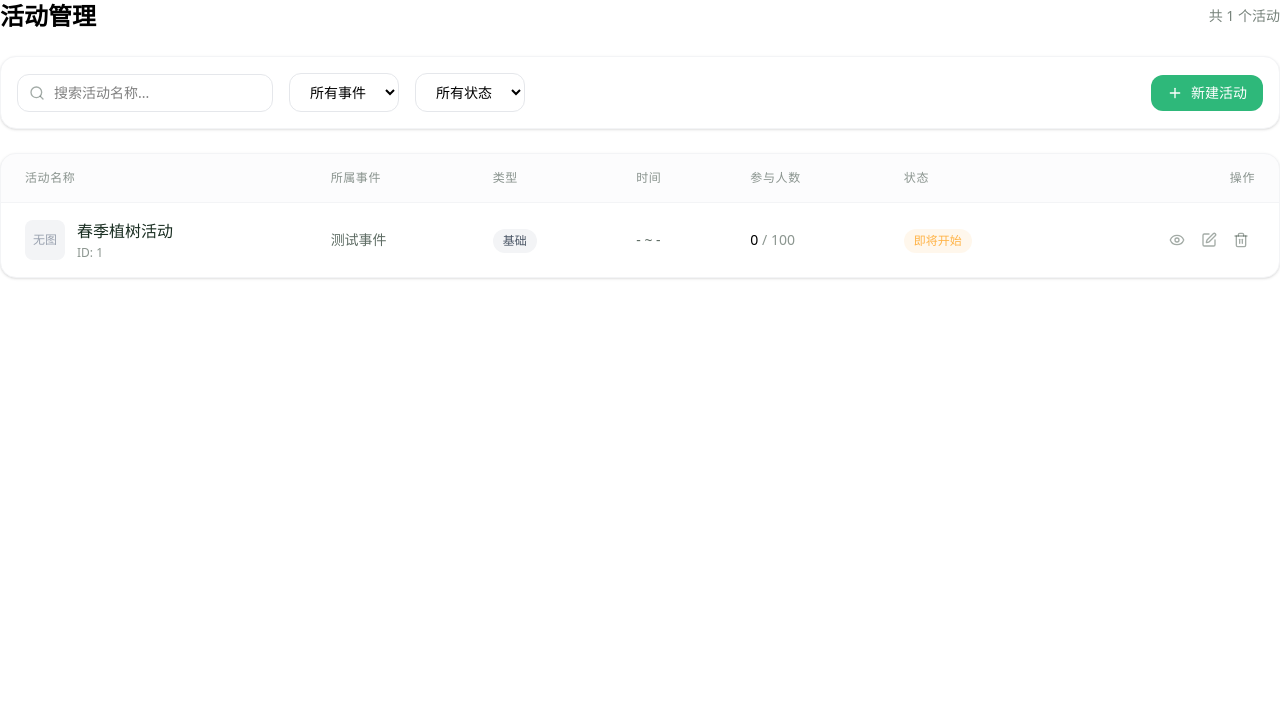
it: ActivityManagementPage 删除活动 › 删除含报名记录的活动失败时展示后端明确文案且模态不关闭（BUG-11）
Expected: the text "春季植树活动" is shown, x1=77 y1=219 x2=173 y2=243
What coordinates should you click on to do the following:
click the button titled "删除"
I would click on:
 (1241, 240)
Its box is x1=1227 y1=226 x2=1255 y2=254.
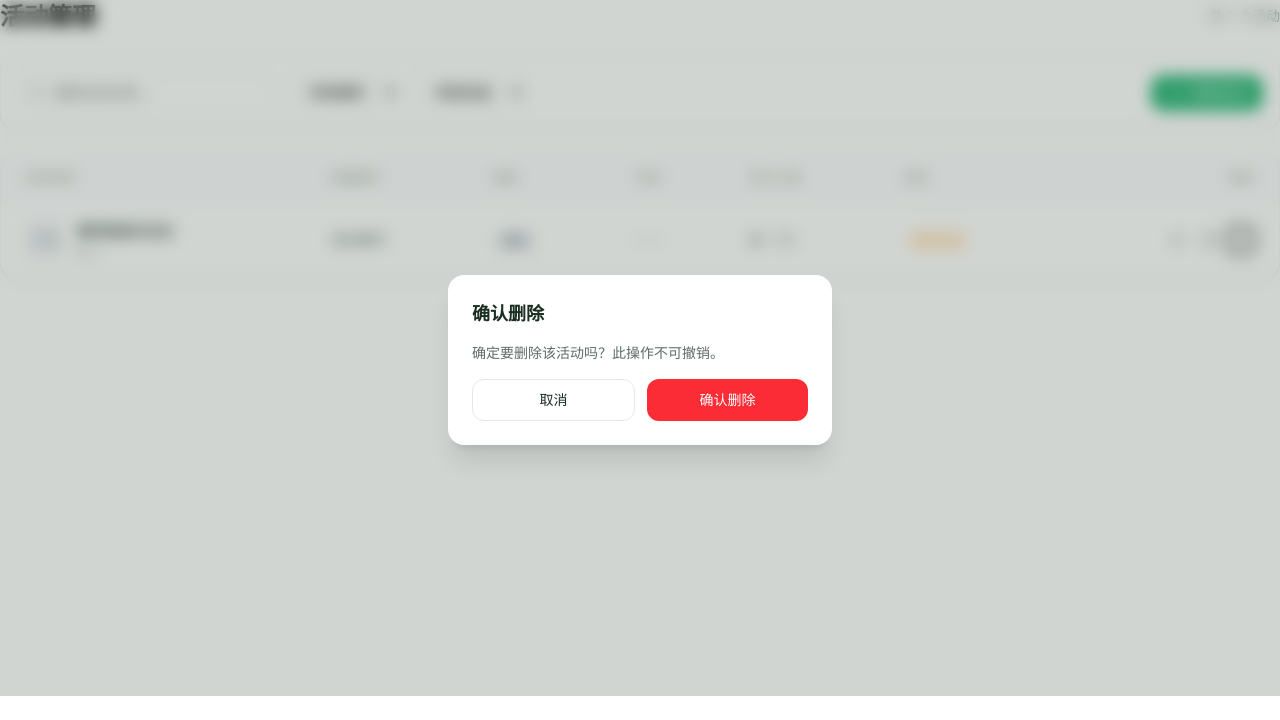
What coordinates should you click on to do the following:
click the button "确认删除"
I would click on:
 (728, 400)
Its box is x1=647 y1=379 x2=808 y2=421.
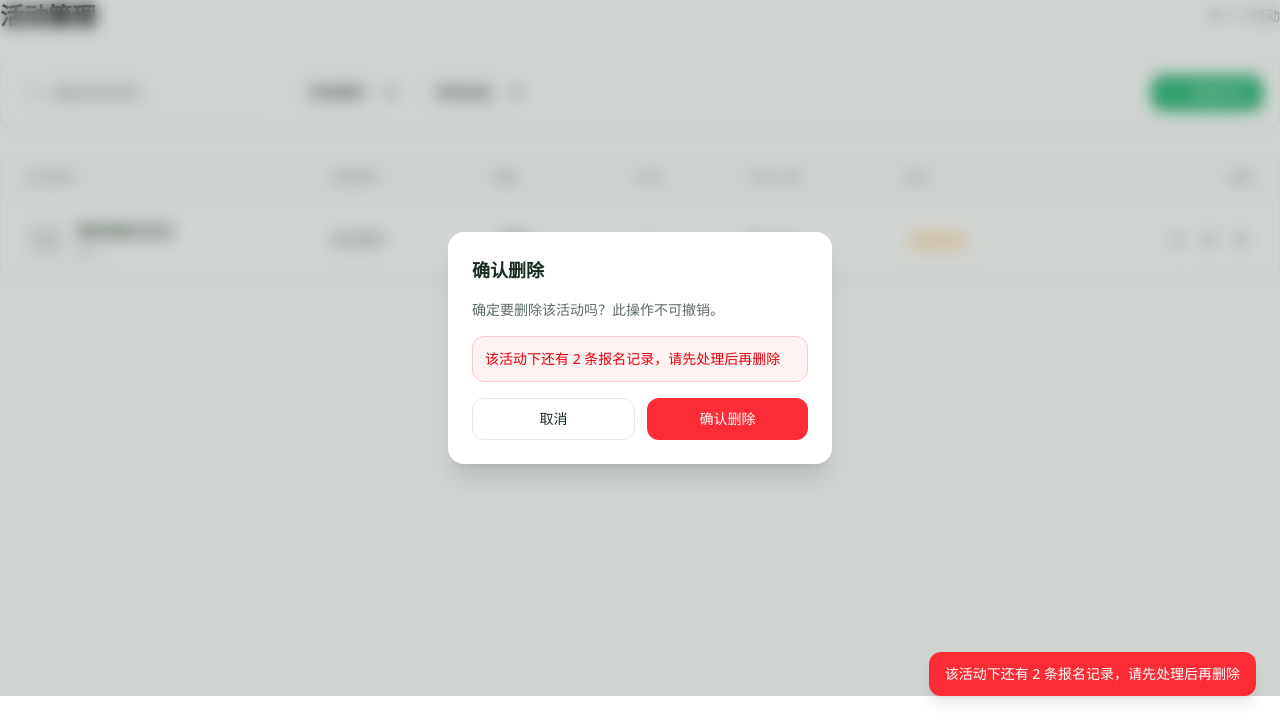
Now the button "确认删除" is shown, box x1=647 y1=398 x2=808 y2=440
Now the text "该活动下还有 2 条报名记录，请先处理后再删除" is shown, box x1=472 y1=336 x2=808 y2=382
